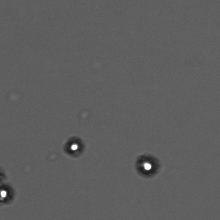Living Cell: (135, 154, 159, 177), (62, 135, 84, 156), (1, 184, 14, 205)
